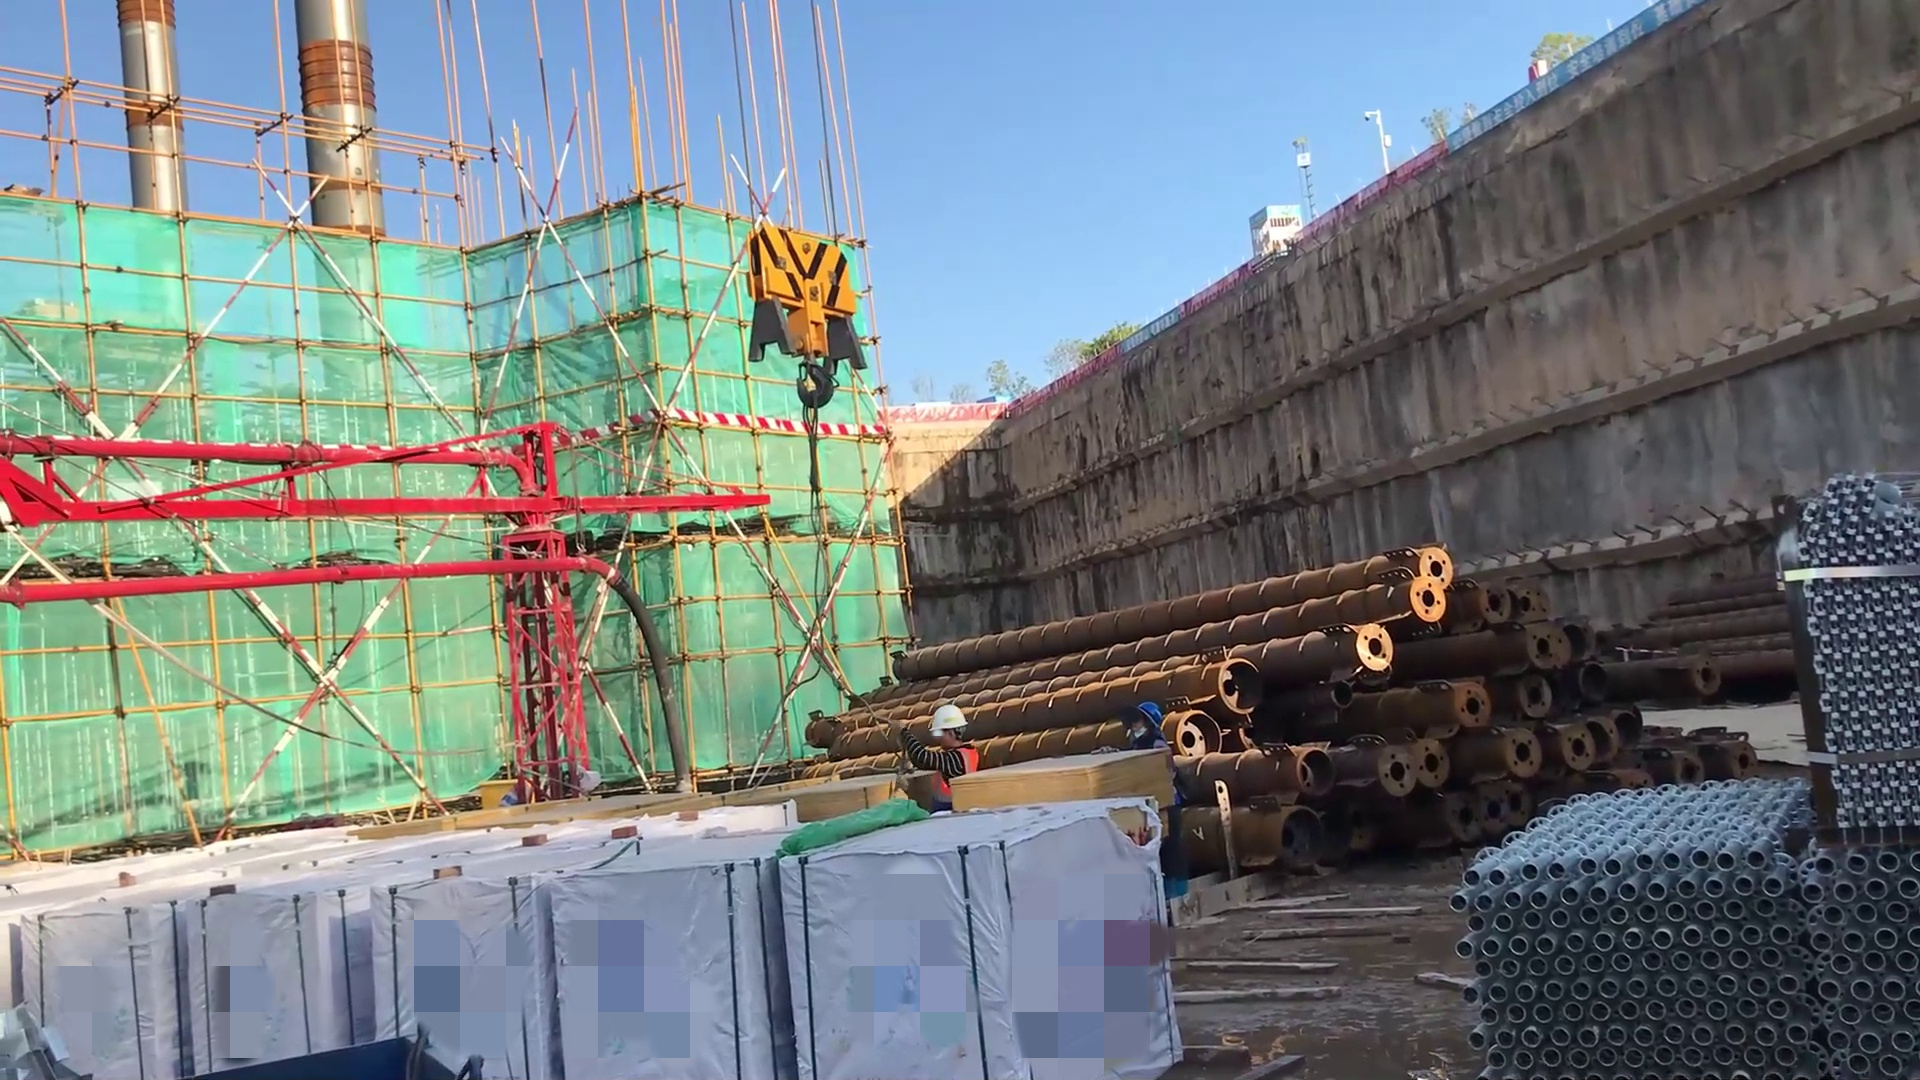board: (940, 744, 1180, 841)
ebox: (477, 782, 544, 832)
helmet: (918, 699, 970, 746), (1127, 698, 1165, 738)
hook: (737, 192, 879, 482)
person: (1111, 694, 1189, 945), (896, 702, 993, 827)
scaffold: (1440, 769, 1874, 1080), (1786, 442, 1920, 1070)
slogan: (1448, 1, 1706, 167), (1109, 303, 1194, 359)
vest: (926, 743, 980, 813)
